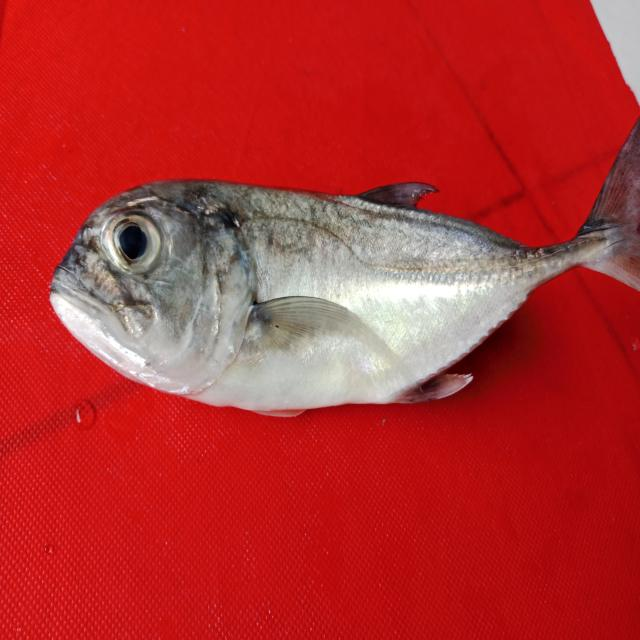ikan: (32, 106, 629, 436)
